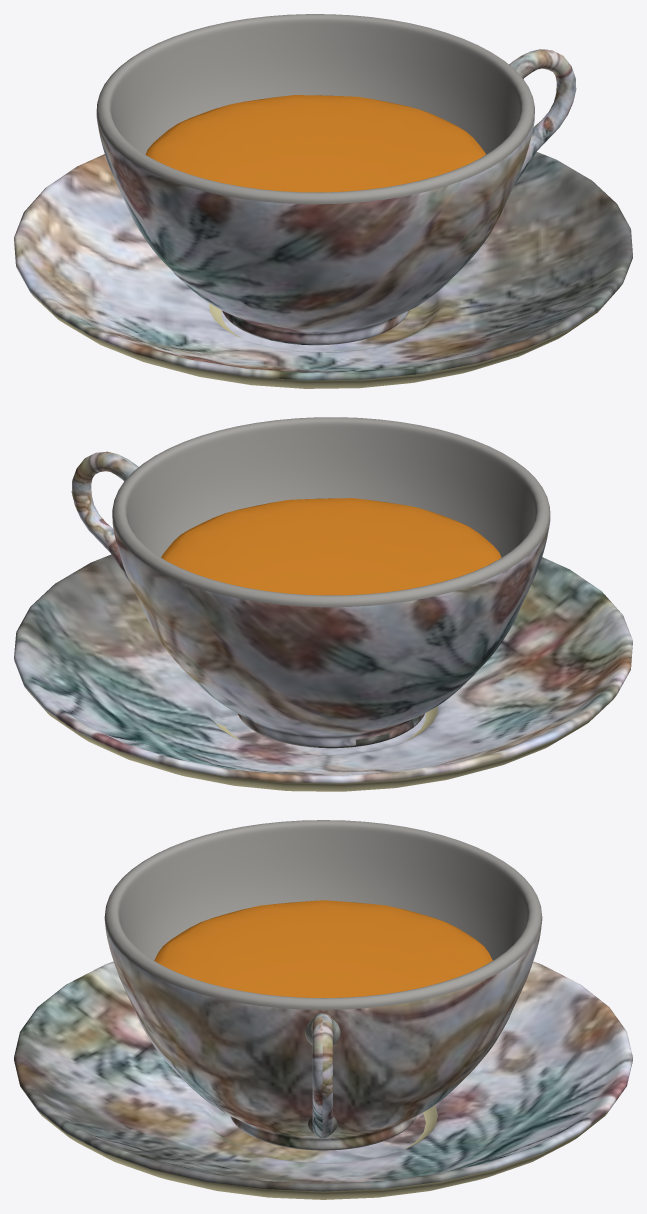
The model's file is tea.fbx.
3 views of the same model, one above another, from view 1: azimuth 30°, elevation 25°; view 2: azimuth 150°, elevation 25°; view 3: azimuth 270°, elevation 25° (orthographic).
Parts seen in each view (by area): view 1: Teacup, Dish, Tea Liquid, teacup handle; view 2: Teacup, Dish, Tea Liquid, teacup handle; view 3: Teacup, Dish, Tea Liquid, teacup handle.
Boxes of the visible parts, left/top/right/bottom form: Teacup: left=96, top=14, right=534, bottom=345; Dish: left=14, top=152, right=632, bottom=388; Tea Liquid: left=145, top=95, right=485, bottom=192; teacup handle: left=509, top=49, right=576, bottom=183; Teacup: left=112, top=417, right=550, bottom=748; Dish: left=14, top=554, right=632, bottom=791; Tea Liquid: left=161, top=498, right=501, bottom=595; teacup handle: left=71, top=451, right=138, bottom=582; Teacup: left=104, top=820, right=542, bottom=1150; Dish: left=14, top=961, right=632, bottom=1199; Tea Liquid: left=154, top=900, right=492, bottom=997; teacup handle: left=305, top=1013, right=340, bottom=1138.
Bounding box in the file's own units: 106 × 42.77 × 106.
